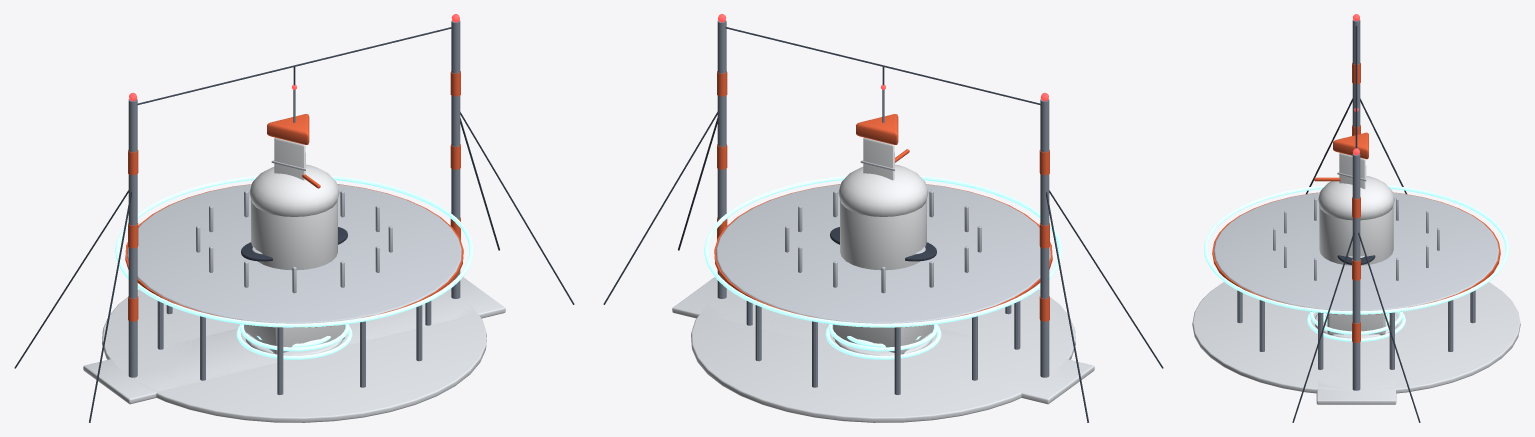
Rendered from nav.glb.
The picture shows the model from 3 angles, left to right: view 1: azimuth 30°, elevation 25°; view 2: azimuth 150°, elevation 25°; view 3: azimuth 270°, elevation 25°; orthographic projection. The views are drawn at different scales.
Parts seen in each view (by area): view 1: vor_station_body, ndb_station_body, vor_station_ring, fix_pylon_tall_body, ndb_station_ring, fix_pylon_tall_ring1; view 2: vor_station_body, ndb_station_body, vor_station_ring, fix_pylon_tall_body, ndb_station_ring, fix_pylon_tall_ring1; view 3: vor_station_body, ndb_station_body, vor_station_ring, fix_pylon_tall_body, ndb_station_ring, fix_pylon_tall_ring1.
Part boxes in pixels (x1=…): vor_station_body: x1=102, y1=164, x2=486, y2=422; ndb_station_body: x1=14, y1=20, x2=574, y2=422; vor_station_ring: x1=115, y1=175, x2=473, y2=327; fix_pylon_tall_body: x1=267, y1=90, x2=309, y2=180; ndb_station_ring: x1=236, y1=325, x2=352, y2=359; fix_pylon_tall_ring1: x1=239, y1=324, x2=349, y2=351; vor_station_body: x1=691, y1=164, x2=1075, y2=422; ndb_station_body: x1=603, y1=20, x2=1163, y2=422; vor_station_ring: x1=704, y1=175, x2=1062, y2=327; fix_pylon_tall_body: x1=856, y1=90, x2=898, y2=180; ndb_station_ring: x1=825, y1=325, x2=941, y2=359; fix_pylon_tall_ring1: x1=828, y1=324, x2=938, y2=351; vor_station_body: x1=1192, y1=176, x2=1520, y2=393; ndb_station_body: x1=1292, y1=19, x2=1420, y2=422; vor_station_ring: x1=1204, y1=185, x2=1508, y2=314; fix_pylon_tall_body: x1=1333, y1=132, x2=1368, y2=189; ndb_station_ring: x1=1307, y1=312, x2=1405, y2=341; fix_pylon_tall_ring1: x1=1309, y1=311, x2=1403, y2=334.
Bounding box in the file's own units: 18.05 × 10.24 × 12.4.
